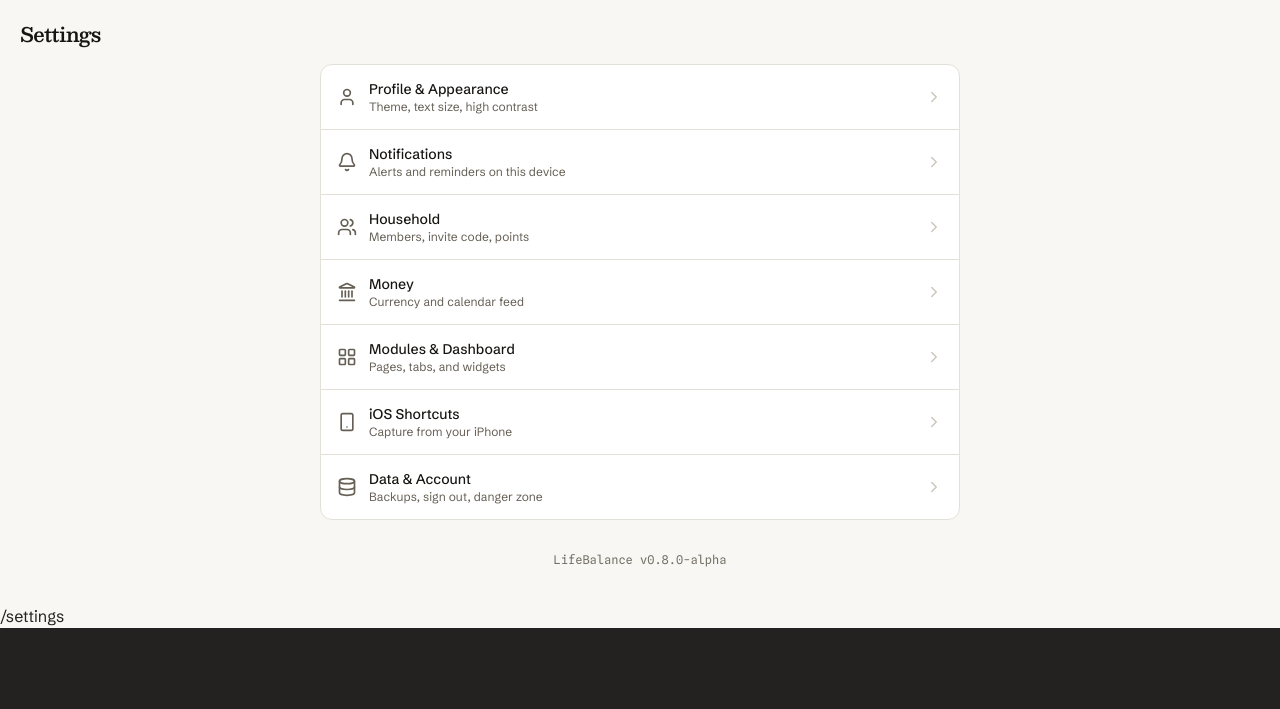
Test: Settings index + sub-screens › renders the Home widget order section with drag handles instead of chevrons
Click the text "Modules & Dashboard" at (442, 349), box [369, 340, 515, 358]
(page scrolled)
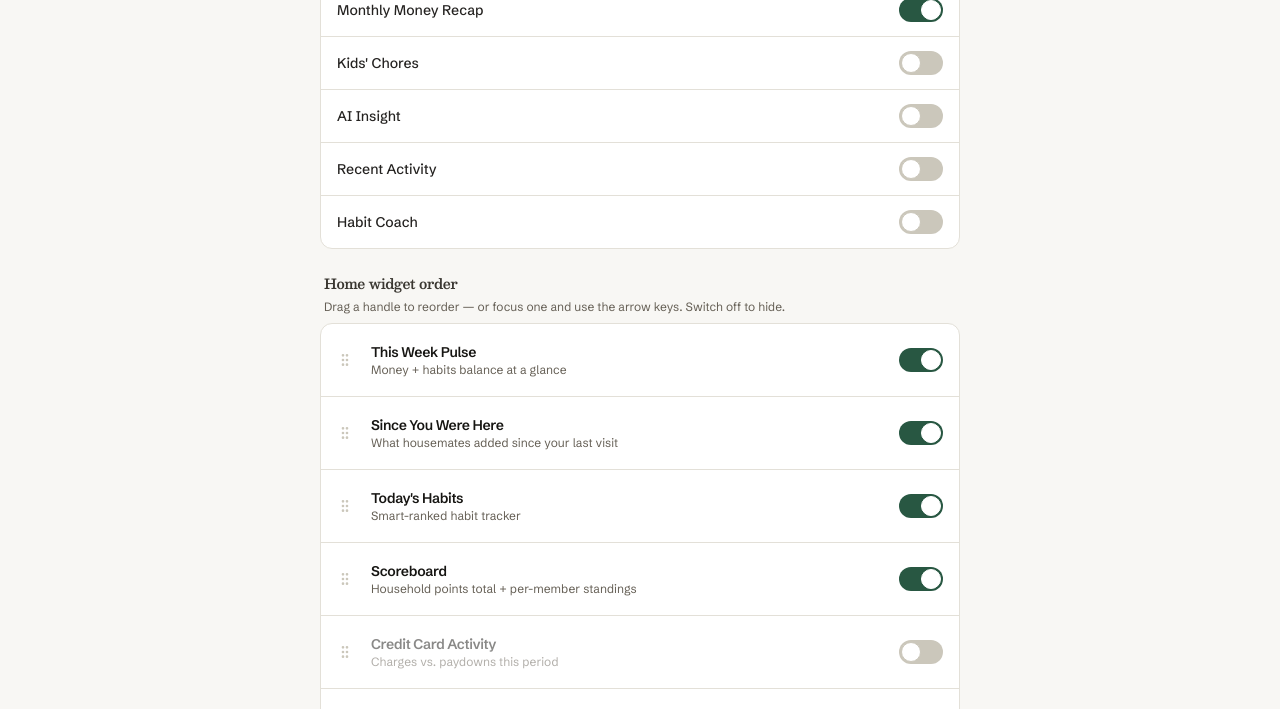
Now the heading "Home widget order" is shown, box [324, 273, 457, 293]
Now the checkbox named "Show This Week Pulse on Home" is checked, box [899, 348, 943, 372]
Now the button named "Reorder This Week Pulse" is shown, box [331, 346, 359, 374]
